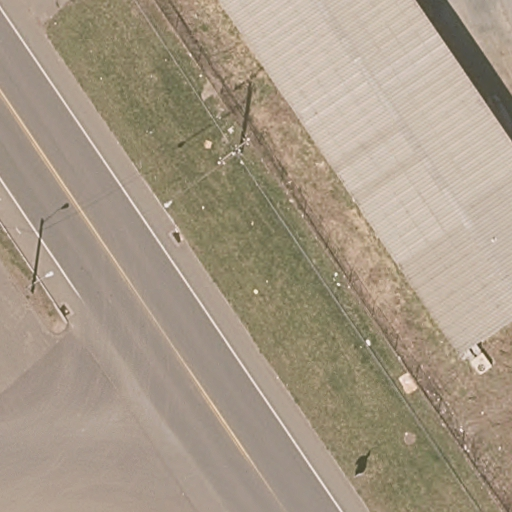DT: (217, 138, 250, 167)
